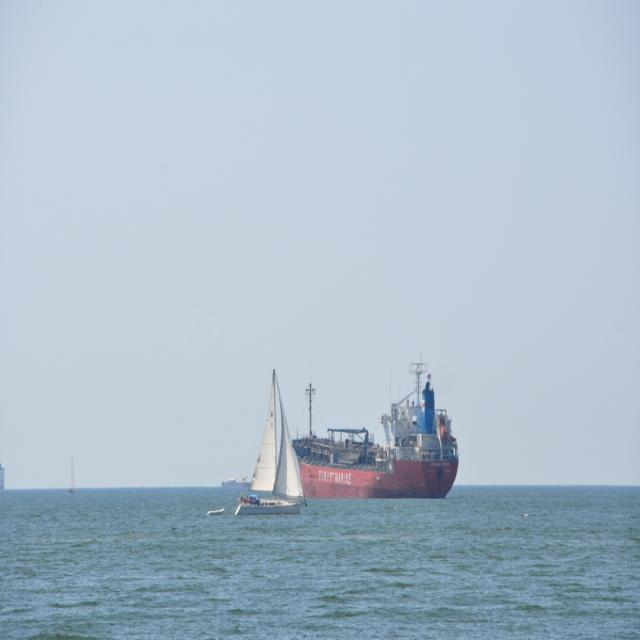Boat: (286, 354, 464, 500), (238, 391, 316, 534), (66, 458, 76, 495)
